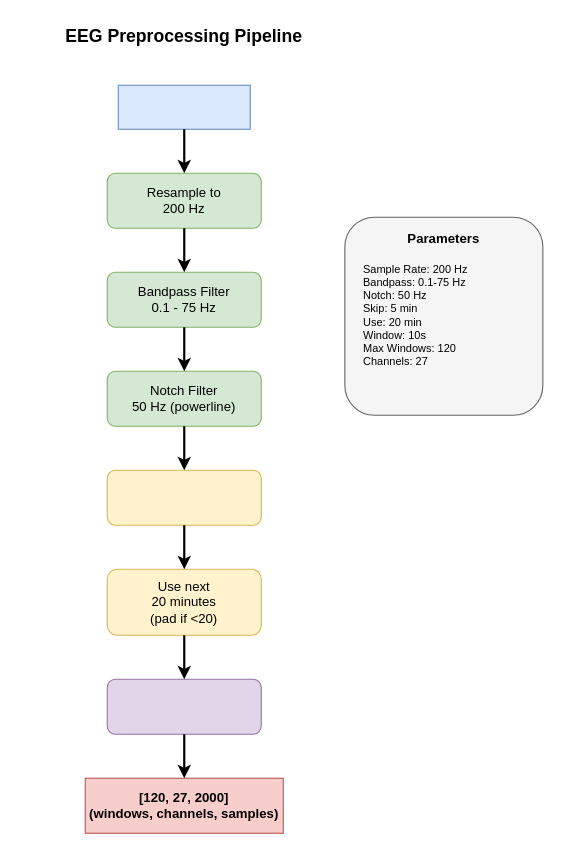
Some shapes in this 562 by 853 pixel diagram are drawn without their labels. The shapes that lost their labels are listed below. From the top down, each one's centre as x and y in pixels, then its label:
At point (183, 106): "Raw EDF File".
At point (183, 497): "Skip first 5 minutes".
At point (183, 706): "10s Windows (max 120)".
